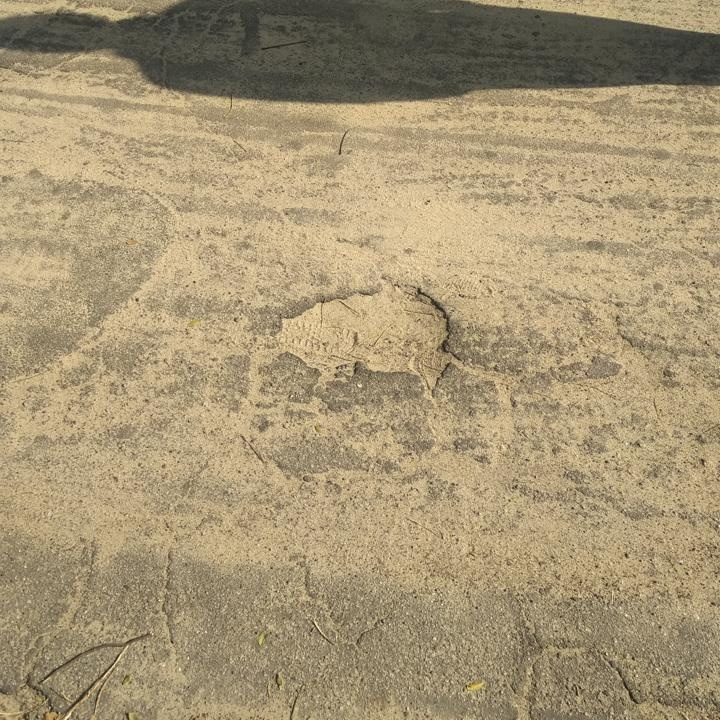pothole: (270, 273, 459, 396)
